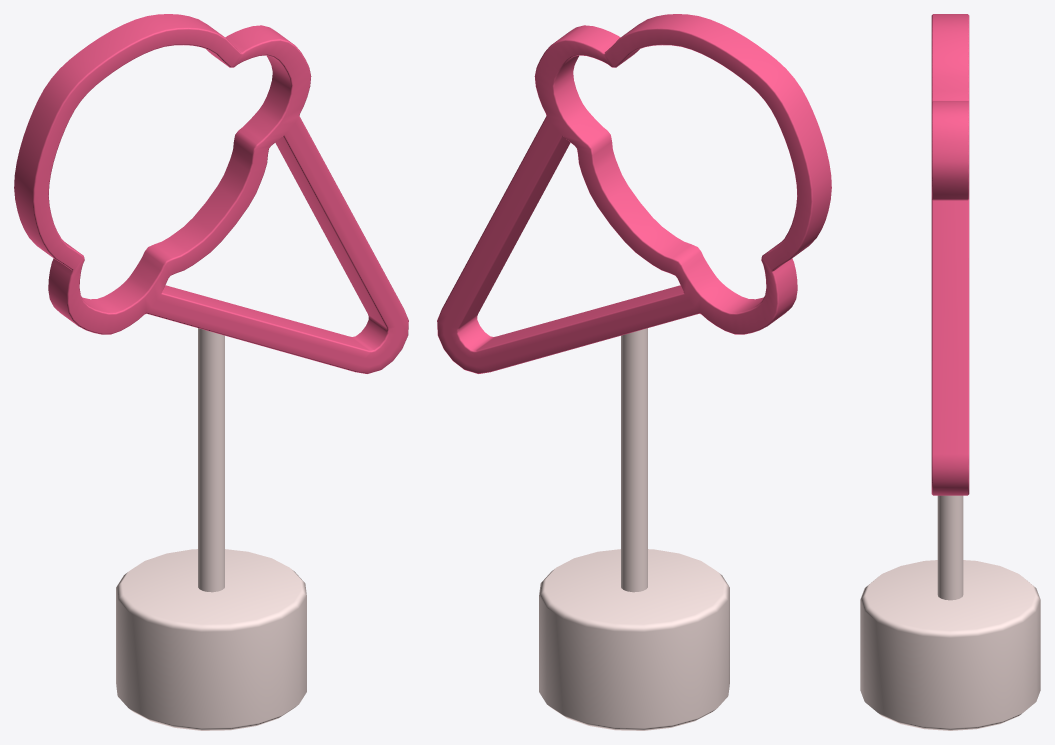
Rendered from City_19_Ice_Cream_Figure_1.glb.
3 views of the same model, side by side, from view 1: azimuth 30°, elevation 25°; view 2: azimuth 150°, elevation 25°; view 3: azimuth 270°, elevation 25° (orthographic). The views are drawn at different scales.
Visible parts, largest first — view 1: City_19_Ice_Cream_Figure_1; view 2: City_19_Ice_Cream_Figure_1; view 3: City_19_Ice_Cream_Figure_1.
Part boxes in pixels (box(x1,y1,x2,y2)): City_19_Ice_Cream_Figure_1: box(14, 14, 408, 730); City_19_Ice_Cream_Figure_1: box(437, 14, 831, 730); City_19_Ice_Cream_Figure_1: box(860, 14, 1040, 730).
Size of the model in its own units: 0.3456 by 0.6 by 0.1526.
1 material, 1 textured.
